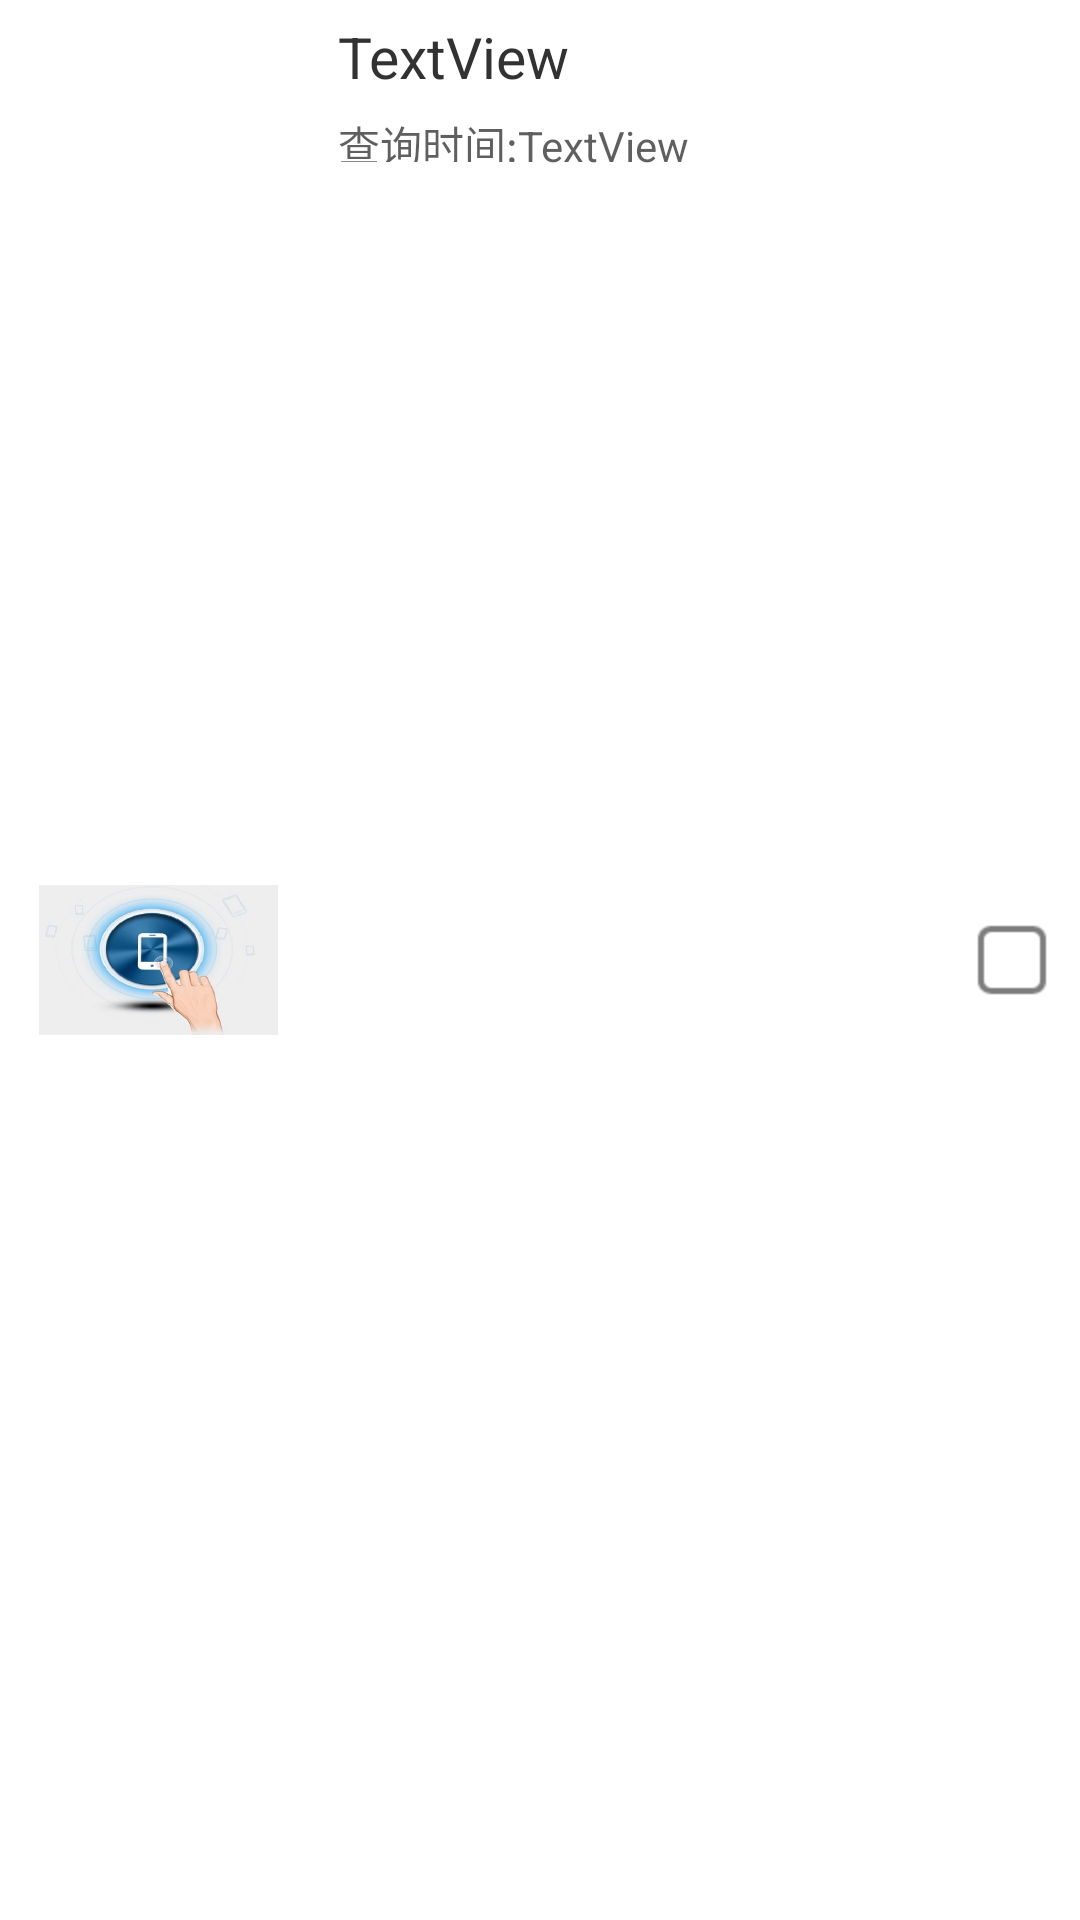

Icon click points for this 1080 x 1920 phone screenshot, format (x=x, y=y):
by hand: (x=158, y=960)
check item: (x=1012, y=960)
